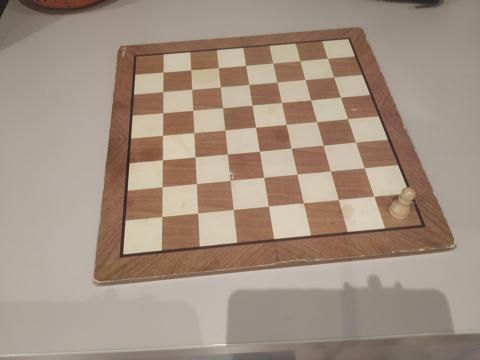xcorner: (191, 210, 201, 220), (155, 183, 165, 193), (190, 180, 200, 190), (259, 173, 269, 183), (361, 163, 371, 173), (287, 143, 297, 153), (320, 140, 330, 150), (352, 137, 362, 147), (344, 113, 354, 123), (156, 107, 166, 117), (247, 99, 257, 109), (277, 96, 287, 106), (156, 86, 166, 96), (301, 73, 311, 83), (296, 54, 306, 64), (228, 206, 237, 216), (300, 199, 309, 209), (335, 196, 345, 205), (371, 192, 380, 202), (293, 170, 303, 179), (327, 167, 337, 176), (222, 149, 231, 159), (255, 146, 264, 156), (219, 125, 229, 134), (282, 119, 292, 128), (313, 116, 323, 125), (217, 102, 227, 111), (307, 94, 317, 103), (186, 83, 195, 93), (244, 78, 253, 88), (330, 71, 340, 80), (157, 66, 166, 76), (213, 61, 222, 71), (241, 59, 250, 69), (155, 214, 164, 223), (264, 203, 273, 212), (225, 177, 234, 186), (156, 156, 165, 165), (189, 153, 198, 162), (156, 131, 165, 140), (188, 128, 197, 137), (251, 122, 260, 131), (187, 105, 196, 114), (337, 91, 346, 100), (215, 81, 224, 90), (273, 76, 282, 85), (185, 64, 194, 73), (269, 57, 278, 66), (324, 52, 333, 61)
